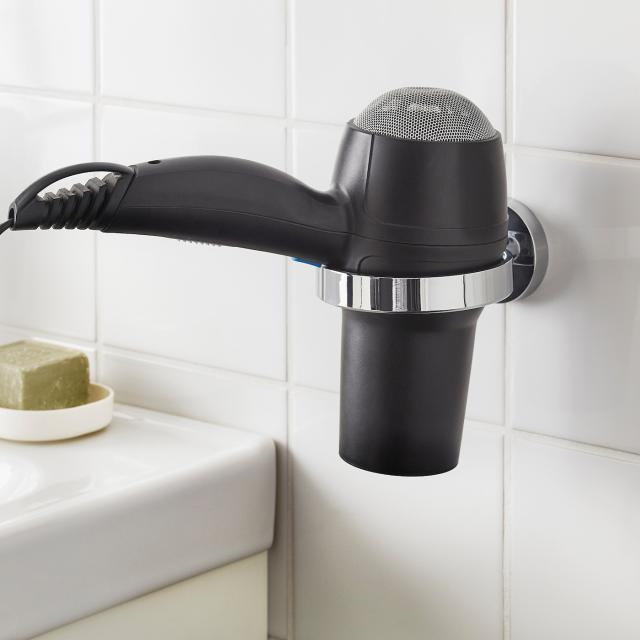dryer: (4, 52, 529, 491)
